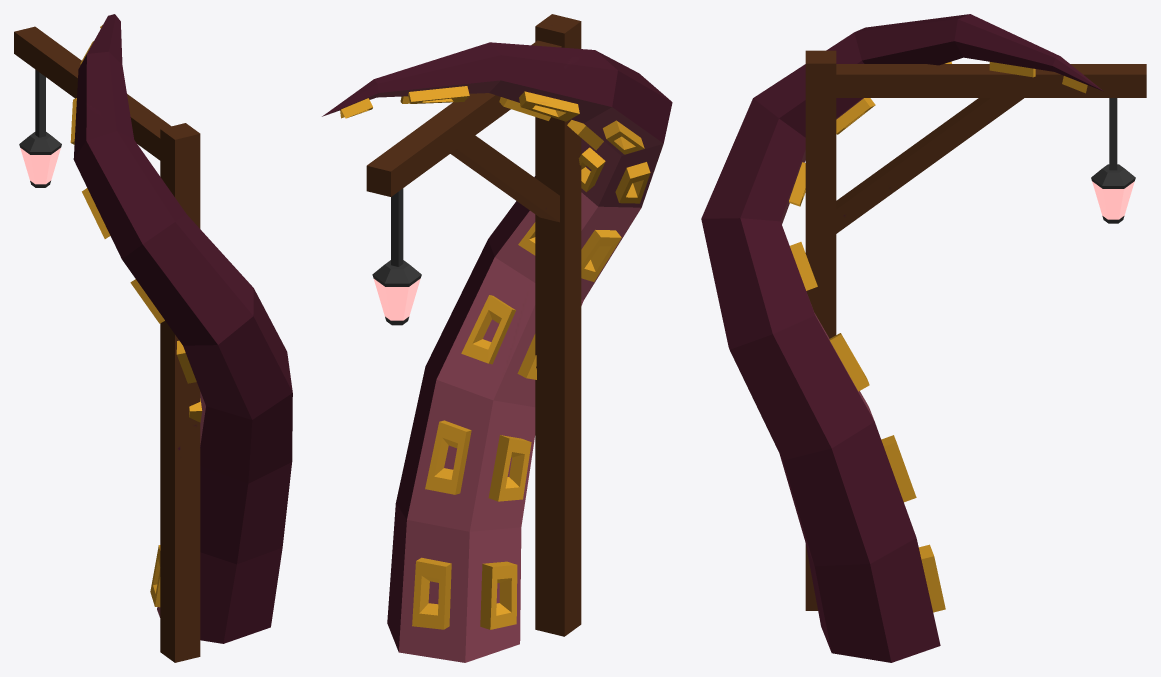
File: Pole_Tentacles.fbx
3 views of the same model, side by side, from view 1: azimuth 30°, elevation 25°; view 2: azimuth 150°, elevation 25°; view 3: azimuth 270°, elevation 25° (orthographic). The views are drawn at different scales.
Visible parts, largest first — view 1: Pole_Tentacles; view 2: Pole_Tentacles; view 3: Pole_Tentacles.
Boxes of the visible parts, x1=… form: Pole_Tentacles: x1=14, y1=14, x2=292, y2=662; Pole_Tentacles: x1=322, y1=14, x2=672, y2=662; Pole_Tentacles: x1=701, y1=14, x2=1146, y2=662.
Bounding box in the file's own units: 0.9237 × 2.53 × 1.75.
